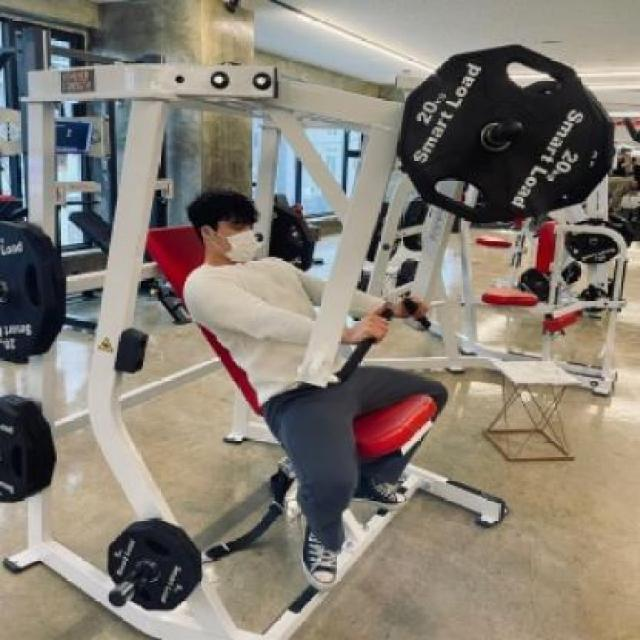Chest Press machine: (2, 18, 603, 640)
